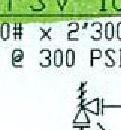psv: (72, 79, 103, 128)
